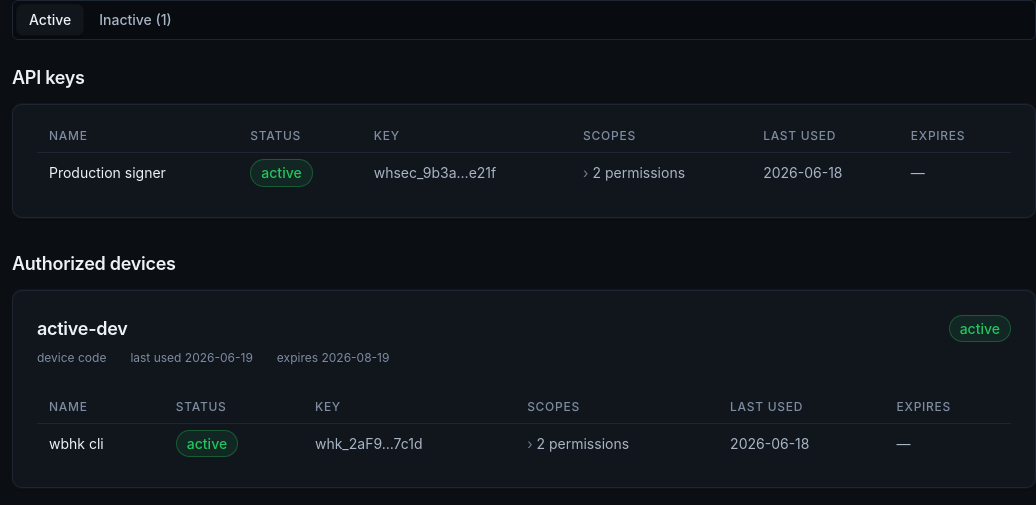
Scenario: CredentialsView › keeps an active device on Active and an expired one on the Inactive tab
Expected: the heading "active-dev" is shown, x1=37 y1=315 x2=128 y2=343
Expected: the text "old-dev" is not shown
Click the tab "Inactive (1)".
click(135, 20)  # box x1=87 y1=5 x2=184 y2=35
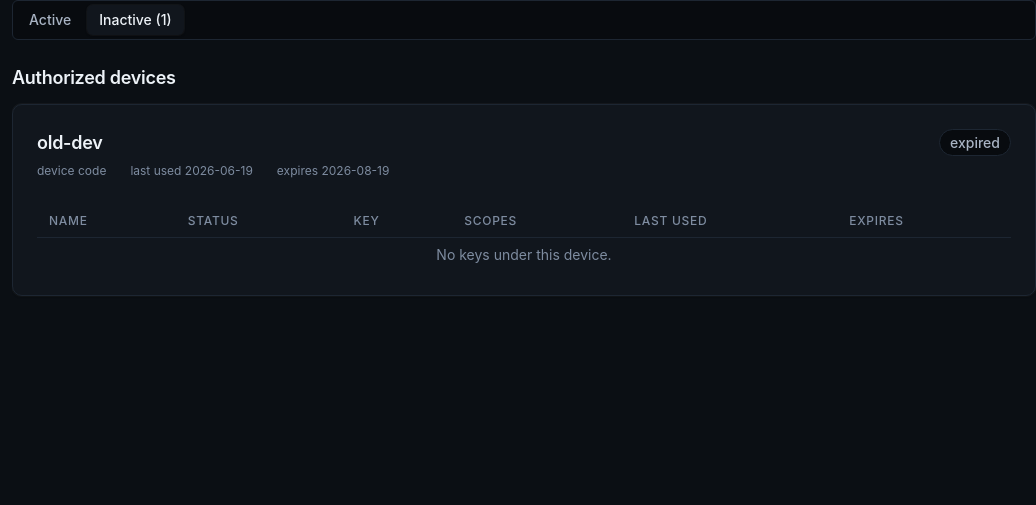
Expected: the text "expired" is shown, x1=939 y1=129 x2=1011 y2=156
